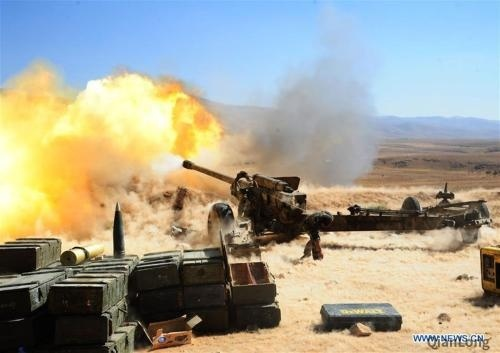fire: (0, 62, 225, 236)
